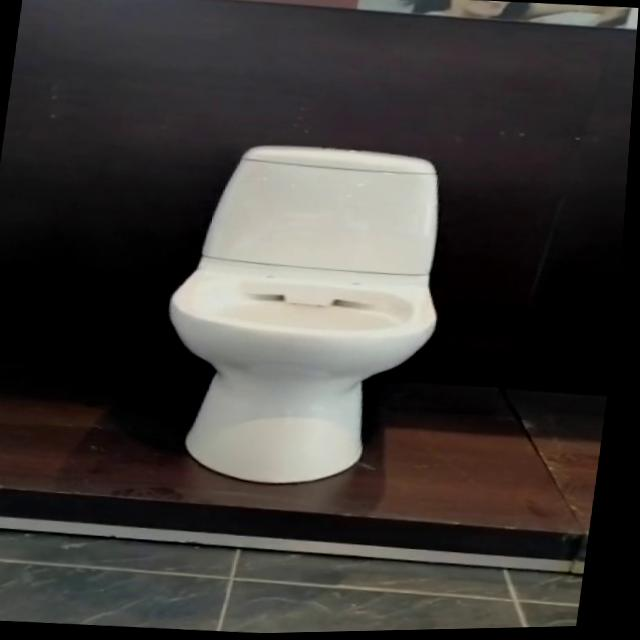toilet: (152, 135, 465, 497)
